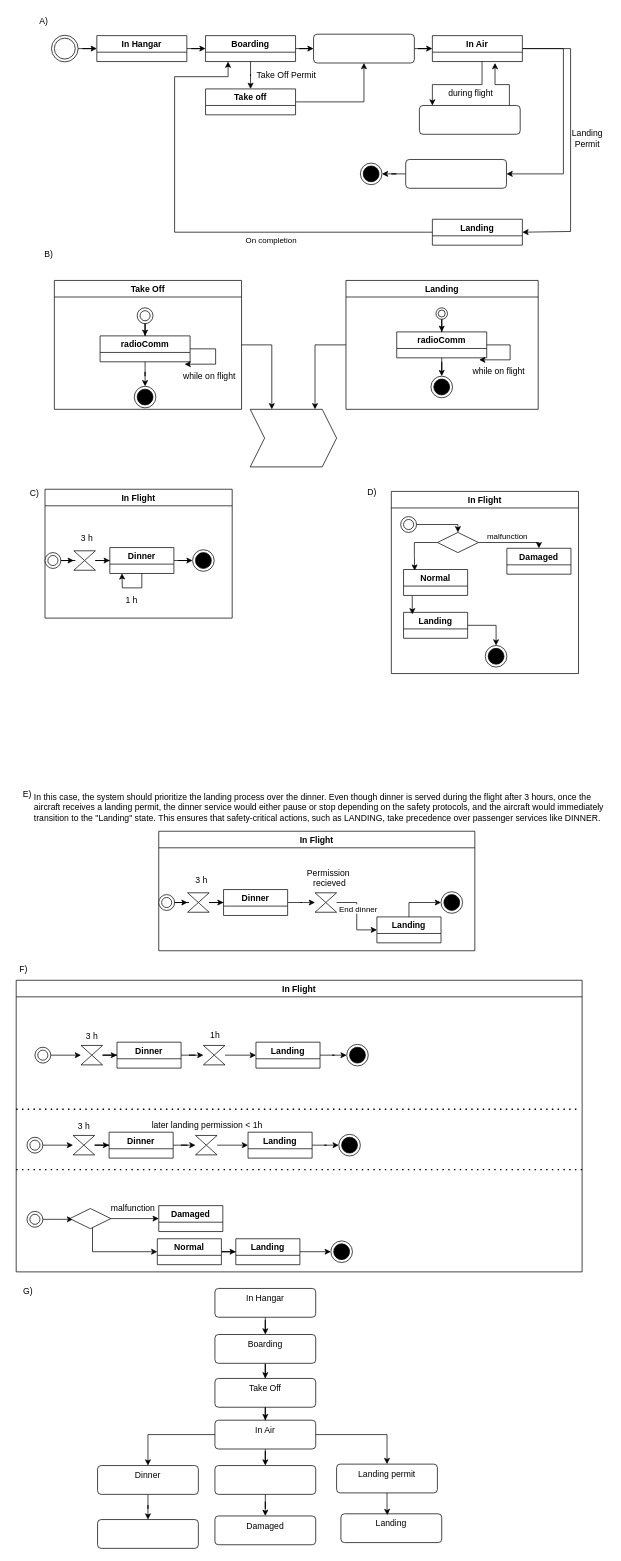
The diagram is 621 pixels wide and 1561 high, and some of its shapes have lost their labels. Here are the shapes that lost their labels. From the top down, the centre of each, then its label:
the point at 363,48: Pull Gear Up
the point at 469,119: Flight Control
the point at 456,173: Pull Gear Down
the point at 293,438: Free Runway Flight
the point at 265,1479: Malfunction detected
the point at 147,1533: Continue Flight
